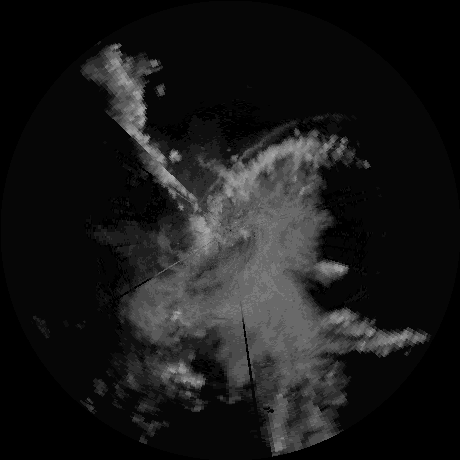frontgust: (199, 123, 289, 202)
